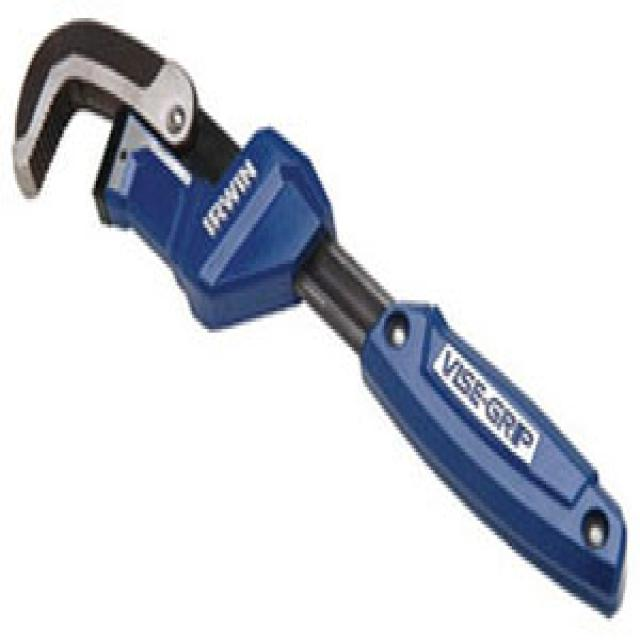wrench: (0, 0, 638, 634)
